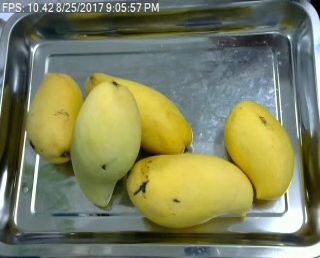Mango: (67, 82, 144, 209), (125, 153, 254, 226), (86, 70, 193, 153), (224, 98, 296, 202), (23, 71, 85, 165)
